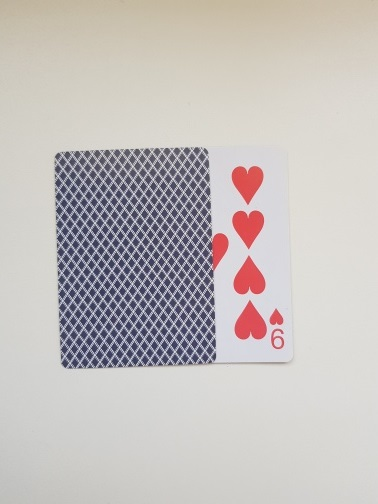nine: (135, 146, 295, 364)
